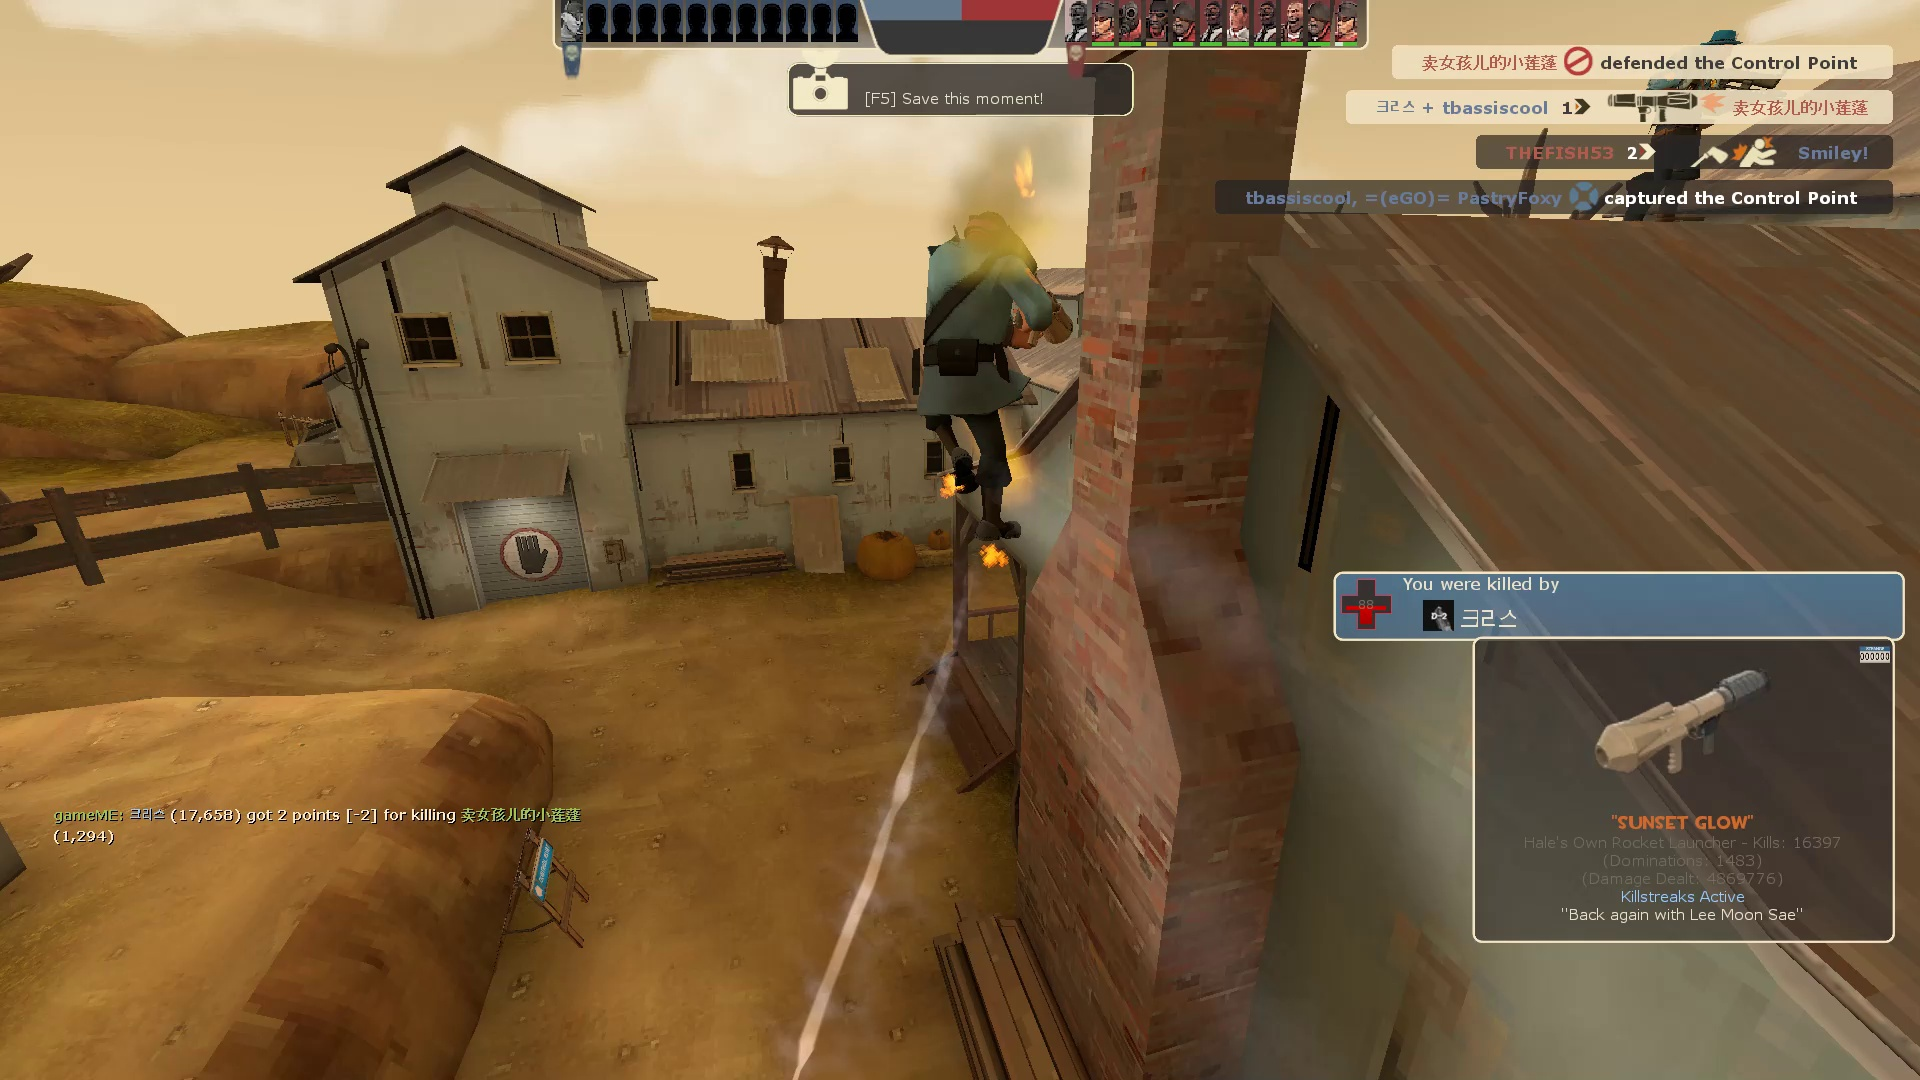blu_soldier: (920, 210, 1084, 568)
